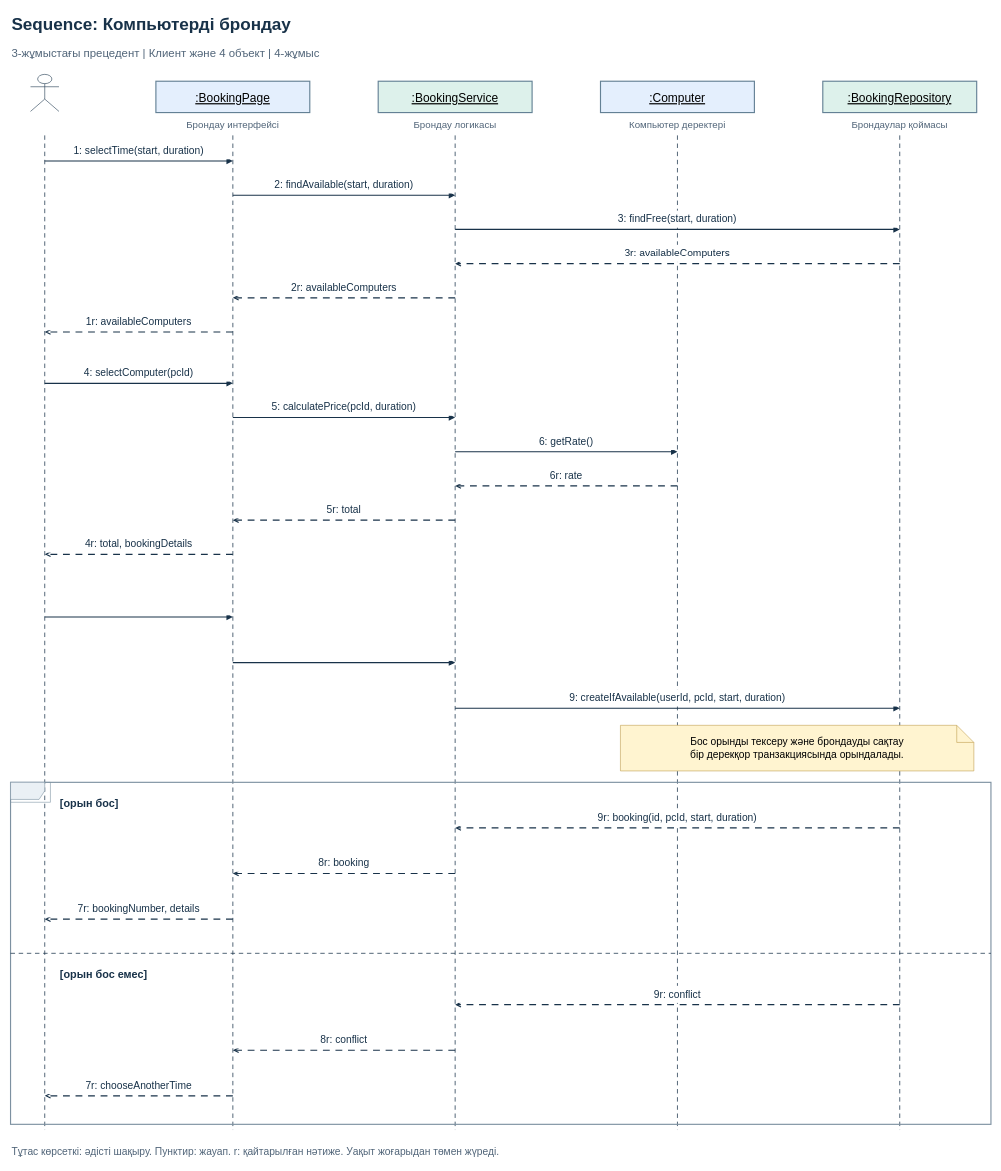
The diagram is 1001 pixels wide and 1171 high, and some of its shapes have lost their labels. The box of each missing label's shape, as (x1, y1, x2, y2) in pixels:
7: confirmBooking(pcId, start, duration): (48, 587, 229, 615)
8: book(userId, pcId, start, duration): (236, 632, 451, 661)
alt: (10, 782, 50, 802)
Клиент: (30, 74, 59, 111)
